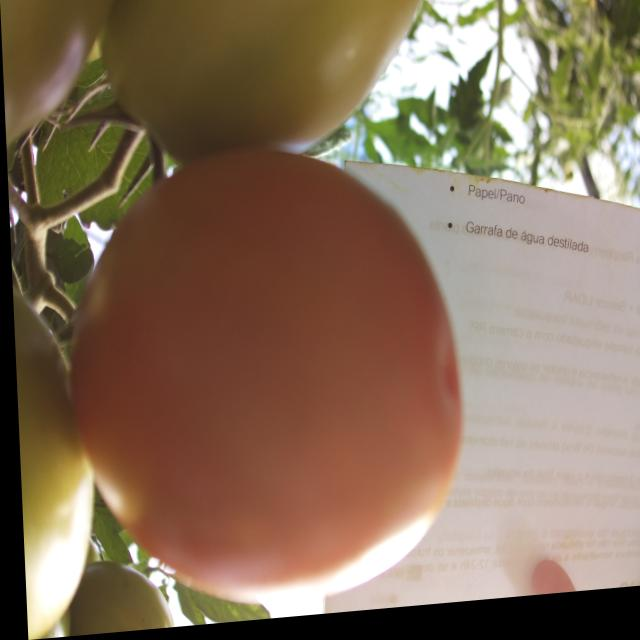sari: (52, 116, 470, 588)
